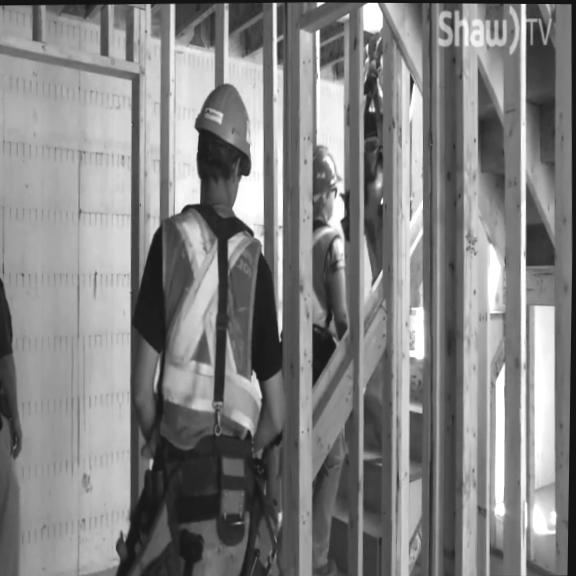safety_vest: (156, 204, 263, 449), (312, 222, 341, 332), (0, 266, 15, 421), (362, 32, 383, 117)
